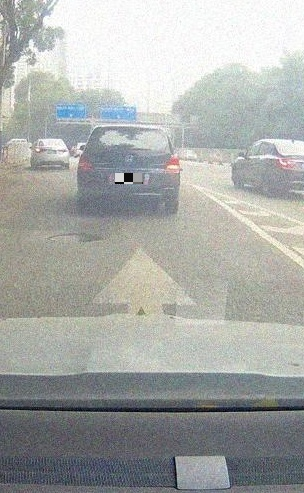L_light: (78, 156, 94, 172)
R_light: (165, 156, 180, 173)
T_light: (120, 126, 136, 128)
day-right: (77, 124, 181, 209)
plate_1: (115, 173, 143, 184)
